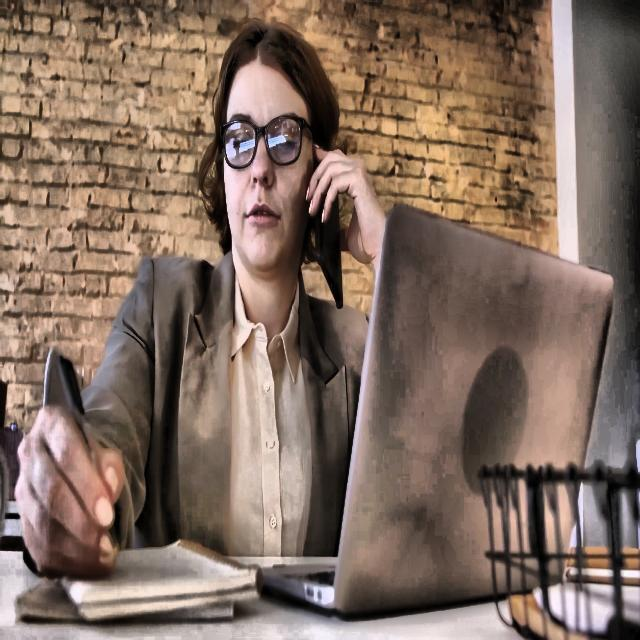Phone: (314, 153, 344, 310)
